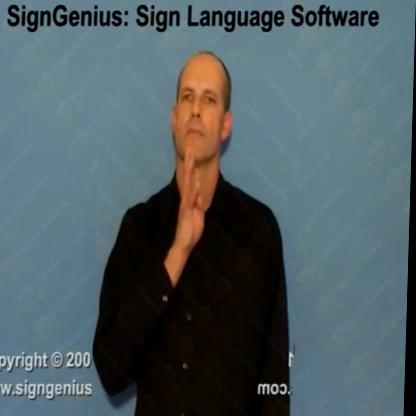Talk: (93, 50, 303, 416)
